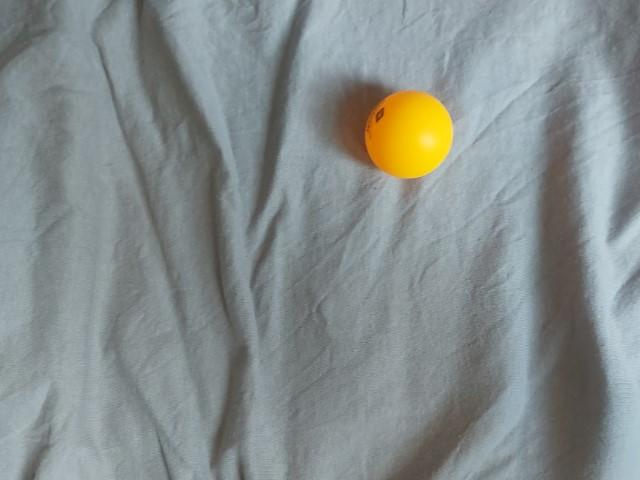oball: (183, 297, 286, 397)
